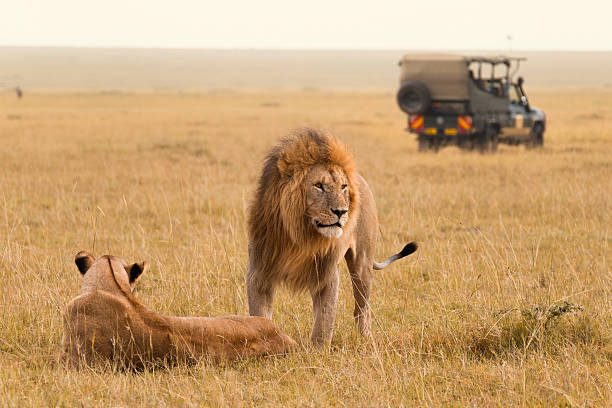lion: (228, 118, 375, 321)
